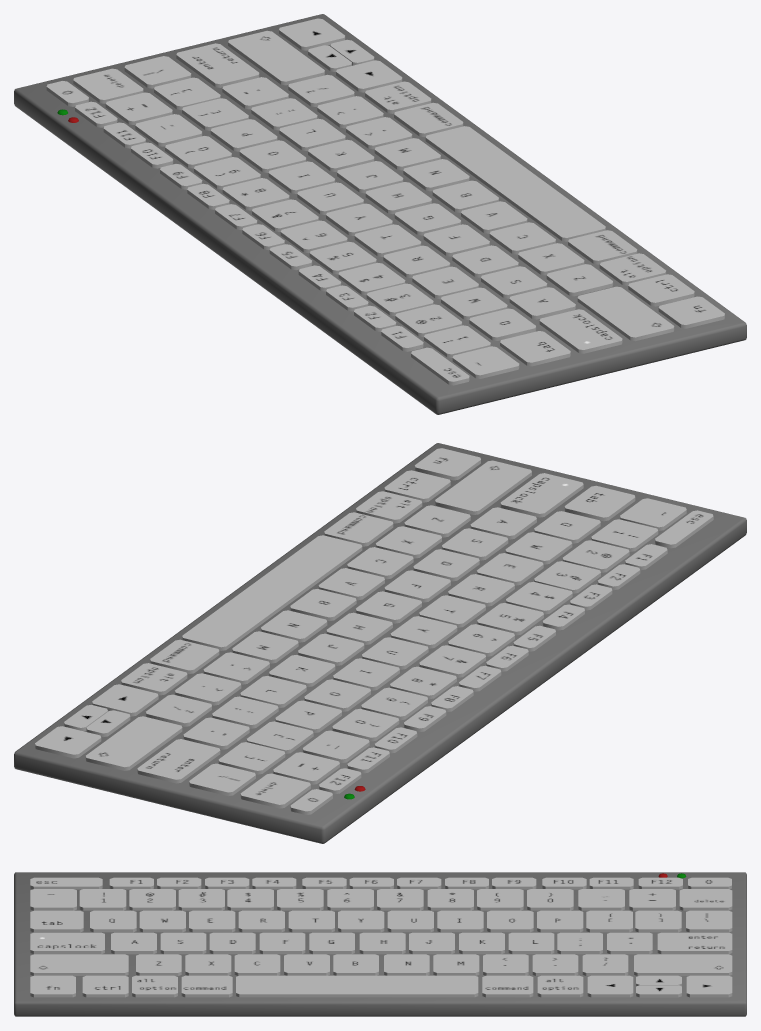
File: keyboard.FBX
3 views of the same model, one above another, from view 1: azimuth 30°, elevation 25°; view 2: azimuth 150°, elevation 25°; view 3: azimuth 270°, elevation 25° (orthographic). The views are drawn at different scales.
Parts seen in each view (by area): view 1: keyboard; view 2: keyboard; view 3: keyboard.
Part boxes in pixels (x1=…): keyboard: x1=14, y1=14, x2=746, y2=414; keyboard: x1=14, y1=443, x2=746, y2=843; keyboard: x1=14, y1=872, x2=746, y2=1016.
Size of the model in its own units: 7.07 by 16.71 by 0.4675.
1 material, 1 textured.
